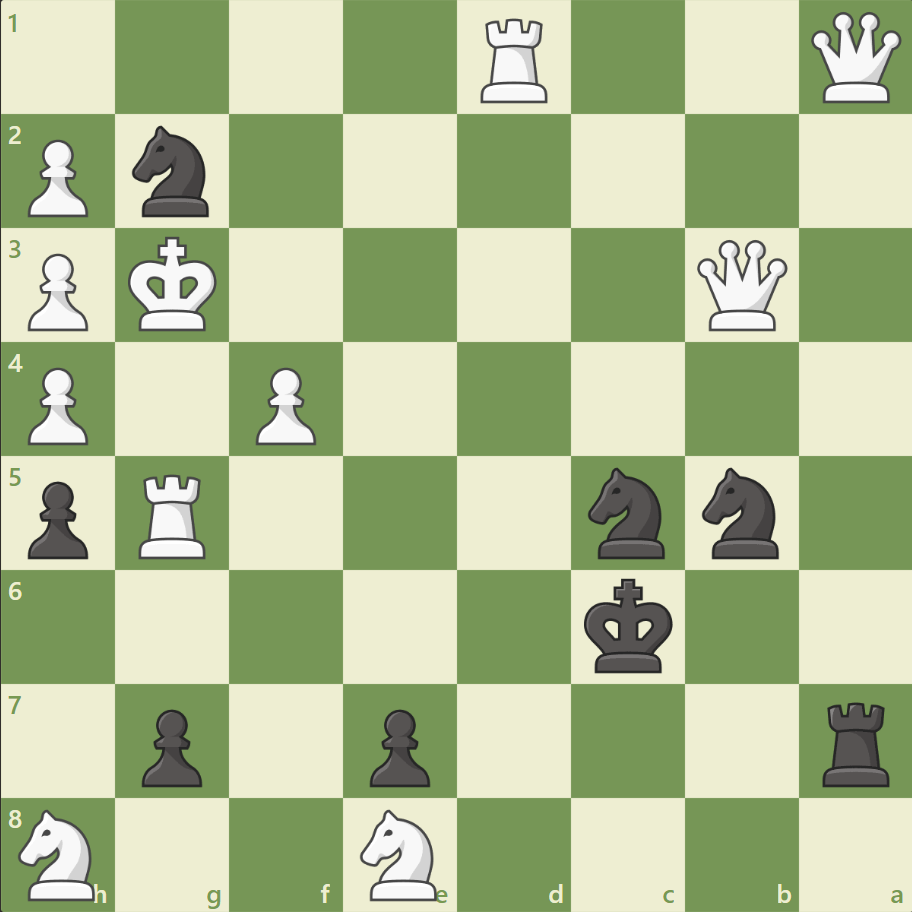K: (124, 231, 224, 339)
N: (351, 802, 449, 904), (11, 802, 108, 904)
P: (247, 359, 322, 450), (20, 359, 95, 450), (20, 246, 95, 337), (20, 132, 95, 223)
Q: (691, 236, 790, 335), (805, 9, 904, 108)
R: (473, 12, 556, 109), (133, 466, 215, 563)
k: (579, 571, 679, 679)
n: (124, 121, 222, 223), (692, 461, 789, 564), (579, 461, 676, 564)
p: (133, 700, 208, 791), (20, 473, 95, 564), (361, 700, 435, 791)
r: (814, 693, 897, 790)
